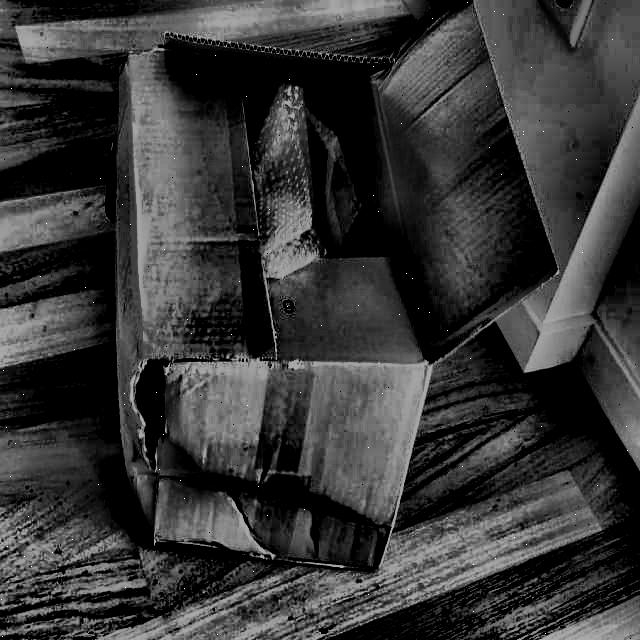box: (94, 0, 560, 586)
hole: (127, 354, 183, 474)
